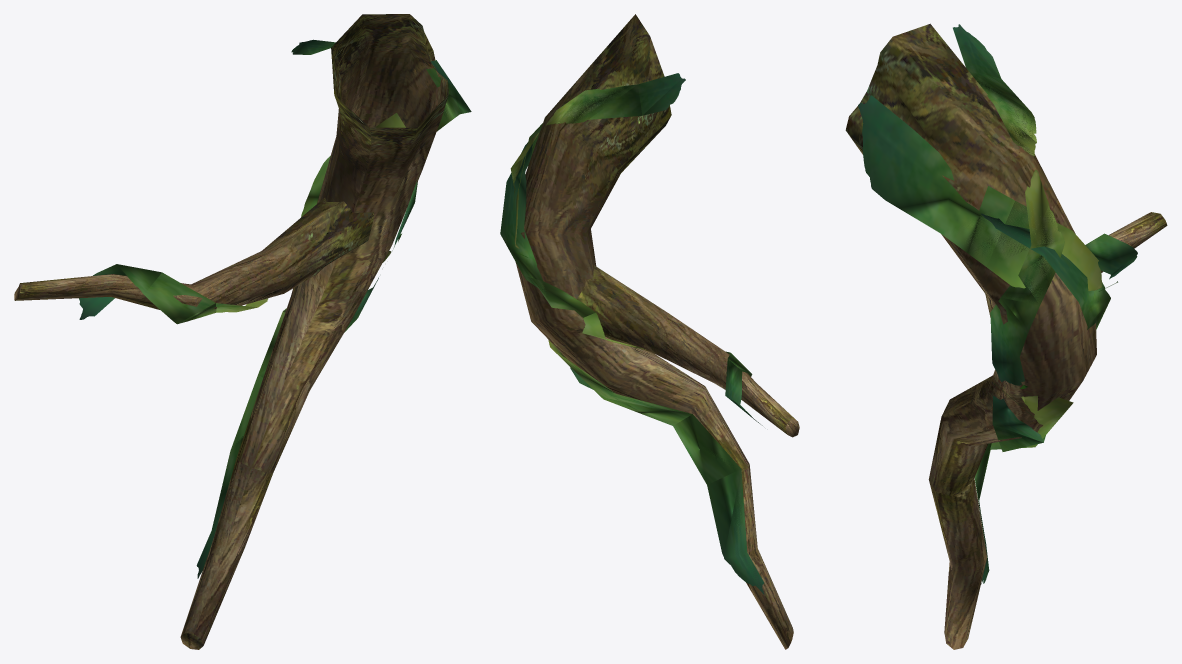
File: S_Tree_Green043.FBX
The picture shows the model from 3 angles, left to right: view 1: azimuth 30°, elevation 25°; view 2: azimuth 150°, elevation 25°; view 3: azimuth 270°, elevation 25°; orthographic projection. The views are drawn at different scales.
Visible parts, largest first — view 1: S_Tree_Green043; view 2: S_Tree_Green043; view 3: S_Tree_Green043.
Part boxes in pixels (box(x1,y1,x2,y2)): S_Tree_Green043: box(14, 14, 471, 649); S_Tree_Green043: box(500, 14, 799, 649); S_Tree_Green043: box(845, 23, 1167, 649).
Bounding box in the file's own units: 790 × 542 × 1271.
